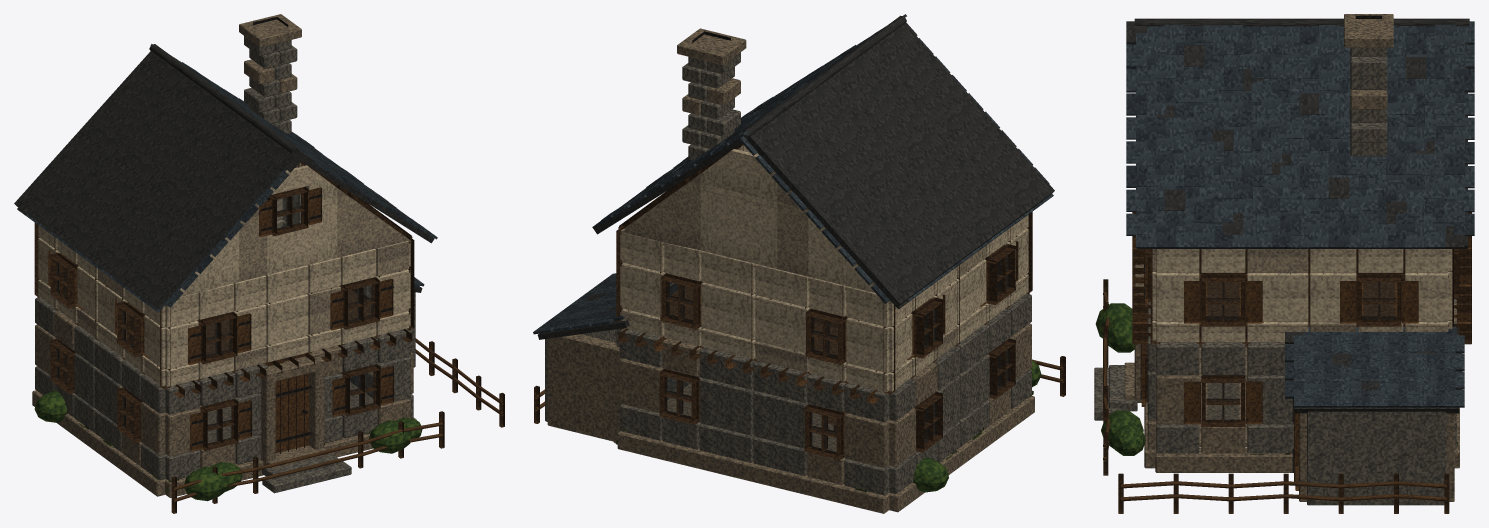
The model's file is medieval_rectory_house_3d_runtime.glb.
The picture shows the model from 3 angles, left to right: view 1: azimuth 30°, elevation 25°; view 2: azimuth 150°, elevation 25°; view 3: azimuth 270°, elevation 25°; orthographic projection. The views are drawn at different scales.
Visible parts, largest first — view 1: MAIN_ROOF_DECK_-1, MAIN_ROOF_TILES_SLATE_A, FRONT_GABLE_PANEL_4_FULL, DOOR_RECTORY_MAIN_PLANK_BODY, FRONT_GABLE_PANEL_3_FULL, PLINTH_LEFT, FRONT_PANEL_3_4, FRONT_GABLE_PANEL_0_FULL, FRONT_GABLE_PANEL_2_LOW, FRONT_GABLE_PANEL_1_FULL, MAIN_ROOF_RIDGE, MAIN_ROOF_TILES_SLATE_B (+65 smaller); view 2: MAIN_ROOF_DECK_-1, ANNEX_REAR_WALL, PLINTH_REAR, REAR_GABLE_PANEL_2_FULL, MAIN_ROOF_TILES_SLATE_A, REAR_GABLE_PANEL_4_FULL, REAR_GABLE_PANEL_3_FULL, REAR_PANEL_3_1, REAR_PANEL_3_4, REAR_PANEL_2_1, REAR_PANEL_2_4, REAR_GABLE_PANEL_1_FULL (+63 smaller); view 3: MAIN_ROOF_TILES_SLATE_A, MAIN_ROOF_TILES_SLATE_B, ANNEX_OUTER_WALL, ANNEX_ROOF_TILES_SLATE_A, ANNEX_ROOF_TILES_SLATE_B, MAIN_ROOF_TILES_SLATE_WORN, PLINTH_RIGHT, RIGHT_PANEL_2_4, MAIN_ROOF_RIDGE, RECTORY_UPPER_FLOOR, RIGHT_PANEL_5_4, CHIMNEY_CAP (+52 smaller).
Part boxes in pixels (box(x1,y1,x2,y2)): MAIN_ROOF_DECK_-1: box(14, 51, 295, 309); MAIN_ROOF_TILES_SLATE_A: box(25, 44, 437, 312); FRONT_GABLE_PANEL_4_FULL: box(337, 188, 410, 257); DOOR_RECTORY_MAIN_PLANK_BODY: box(275, 373, 308, 452); FRONT_GABLE_PANEL_3_FULL: box(306, 167, 337, 264); PLINTH_LEFT: box(32, 390, 165, 496); FRONT_PANEL_3_4: box(265, 294, 308, 344); FRONT_GABLE_PANEL_0_FULL: box(180, 231, 239, 296); FRONT_GABLE_PANEL_2_LOW: box(267, 225, 309, 274); FRONT_GABLE_PANEL_1_FULL: box(239, 200, 267, 281); MAIN_ROOF_RIDGE: box(149, 44, 298, 156); MAIN_ROOF_TILES_SLATE_B: box(42, 62, 425, 305); MAIN_ROOF_DECK_-1: box(746, 23, 1054, 307); ANNEX_REAR_WALL: box(547, 334, 621, 441); PLINTH_REAR: box(617, 431, 889, 513); REAR_GABLE_PANEL_2_FULL: box(731, 149, 777, 268); MAIN_ROOF_TILES_SLATE_A: box(601, 27, 1053, 301); REAR_GABLE_PANEL_4_FULL: box(620, 174, 700, 250); REAR_GABLE_PANEL_3_FULL: box(700, 151, 731, 257); REAR_PANEL_3_1: box(699, 378, 755, 435); REAR_PANEL_3_4: box(701, 282, 756, 340); REAR_PANEL_2_1: box(753, 391, 808, 448); REAR_PANEL_2_4: box(755, 295, 810, 353); REAR_GABLE_PANEL_1_FULL: box(777, 183, 808, 276); MAIN_ROOF_TILES_SLATE_A: box(1126, 21, 1474, 248); MAIN_ROOF_TILES_SLATE_B: box(1126, 26, 1474, 248); ANNEX_OUTER_WALL: box(1307, 407, 1446, 505); ANNEX_ROOF_TILES_SLATE_A: box(1294, 327, 1464, 407); ANNEX_ROOF_TILES_SLATE_B: box(1285, 326, 1455, 407); MAIN_ROOF_TILES_SLATE_WORN: box(1126, 21, 1464, 248); PLINTH_RIGHT: box(1155, 447, 1292, 472); RIGHT_PANEL_2_4: box(1247, 273, 1308, 321); MAIN_ROOF_RIDGE: box(1134, 18, 1469, 26); RECTORY_UPPER_FLOOR: box(1205, 282, 1397, 316); RIGHT_PANEL_5_4: box(1405, 273, 1448, 321); CHIMNEY_CAP: box(1344, 14, 1393, 47).
Size of the model in its own units: 10.39 by 10.08 by 8.28.
Materials: 14 (14 with a texture image).
